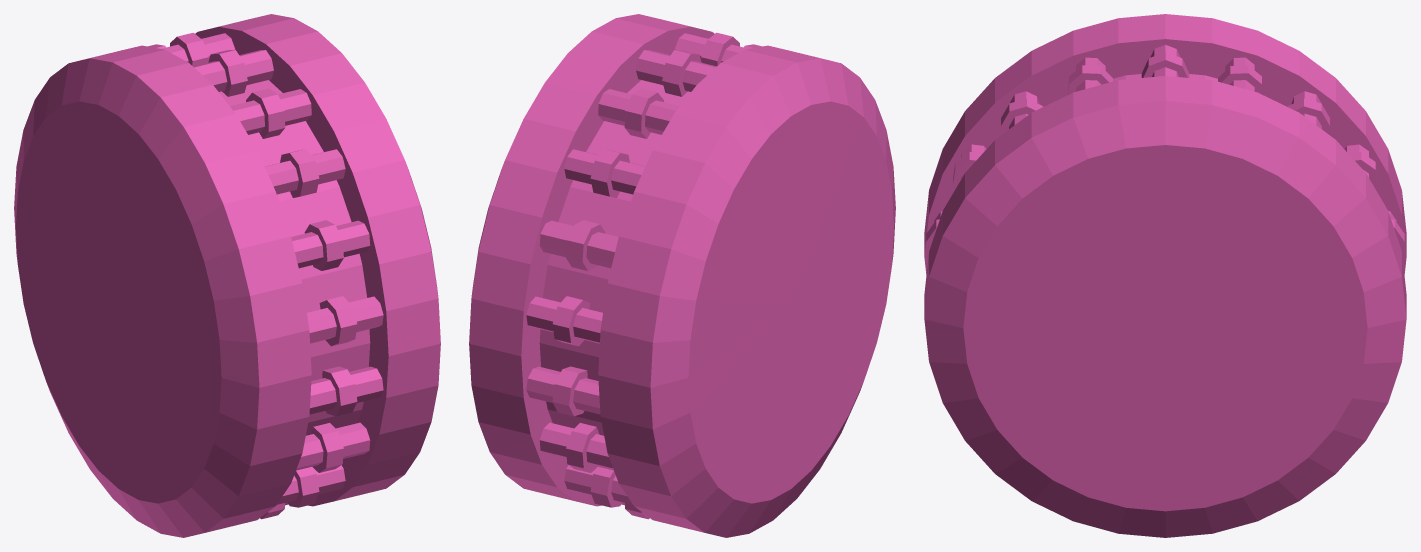
The model's file is CablePlug_LowPoly.fbx.
The picture shows the model from 3 angles, left to right: view 1: azimuth 30°, elevation 25°; view 2: azimuth 150°, elevation 25°; view 3: azimuth 270°, elevation 25°; orthographic projection.
Parts seen in each view (by area): view 1: Cylinder.001; view 2: Cylinder.001; view 3: Cylinder.001.
Part boxes in pixels (box(x1,y1,x2,y2)): Cylinder.001: box(14, 14, 440, 537); Cylinder.001: box(469, 14, 895, 537); Cylinder.001: box(924, 14, 1406, 537).
Bounding box in the file's own units: 61.83 × 122 × 121.
